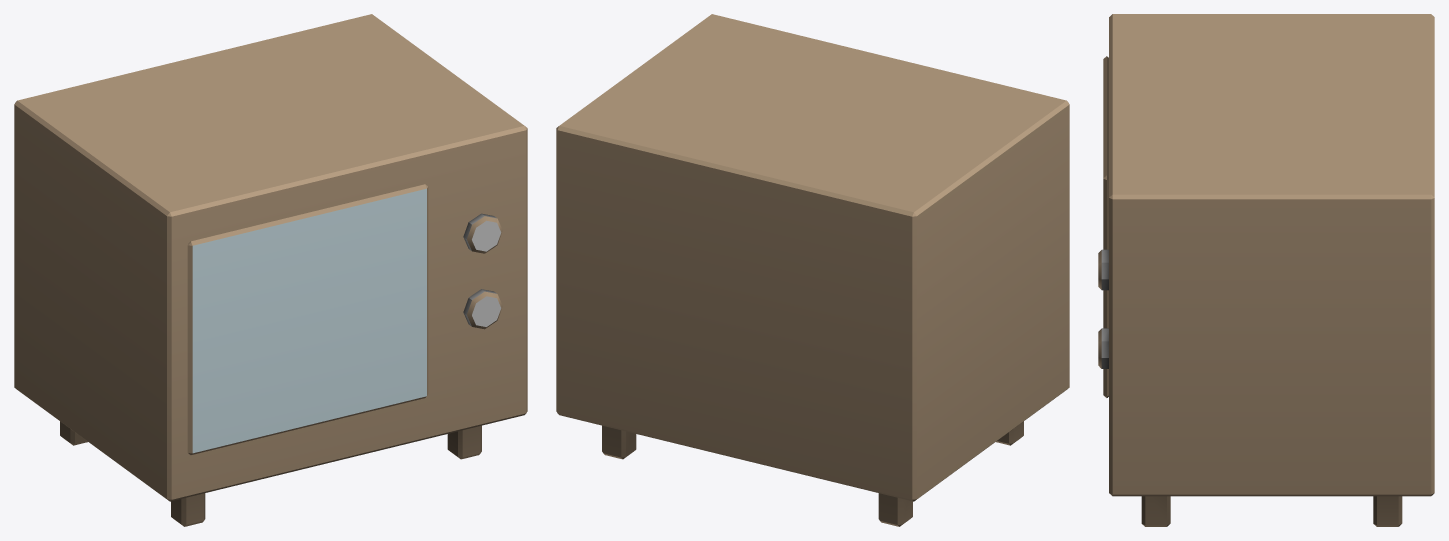
File: tv_old.glb
3 views of the same model, side by side, from view 1: azimuth 30°, elevation 25°; view 2: azimuth 150°, elevation 25°; view 3: azimuth 270°, elevation 25° (orthographic). The views are drawn at different scales.
Parts seen in each view (by area): view 1: tv_old; view 2: tv_old; view 3: tv_old.
Part boxes in pixels (bbox=[...]): tv_old: bbox=[14, 14, 527, 526]; tv_old: bbox=[556, 14, 1069, 526]; tv_old: bbox=[1098, 14, 1434, 526].
Bounding box in the file's own units: 0.6 × 0.53 × 0.465.
